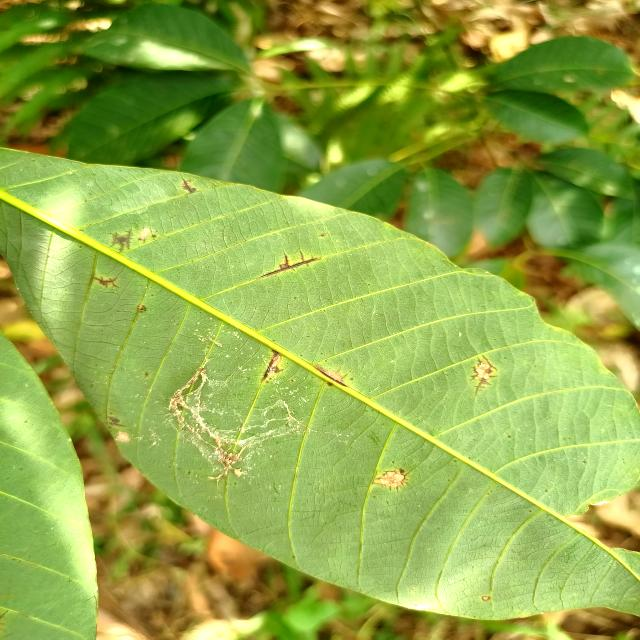Colletotrichum: (482, 596, 491, 601)
Corynespora: (258, 252, 322, 279), (470, 355, 498, 396), (372, 468, 412, 492), (313, 366, 348, 387), (261, 350, 281, 381), (110, 228, 133, 252), (94, 274, 120, 289), (178, 178, 196, 194)
